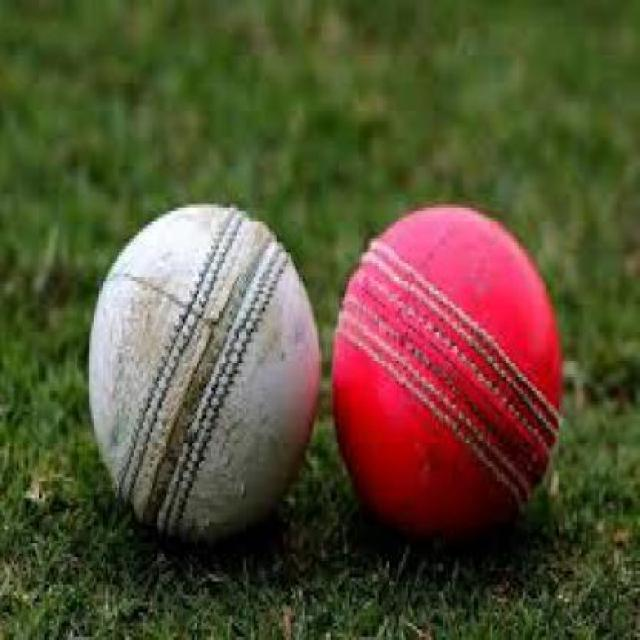ball: (300, 168, 598, 568)
